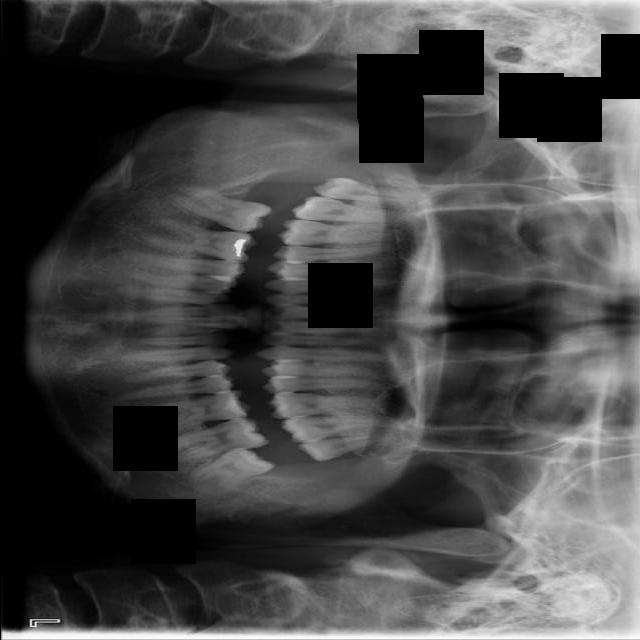3M ESPE Implant: (310, 173, 429, 212)
52: (209, 226, 259, 267)
73: (38, 602, 46, 604)
BioHorizons Implant: (279, 414, 393, 443)
BioLife Implant: (295, 431, 394, 464)
Biomet 3i Implant: (183, 432, 277, 511)
Blue Sky Bio Implant: (158, 413, 269, 466)
Caries: (288, 195, 420, 224)
Implant: (161, 179, 274, 239)
